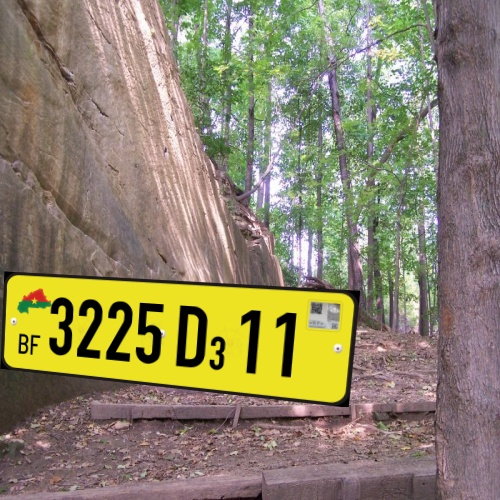plate: (3, 255, 367, 426)
